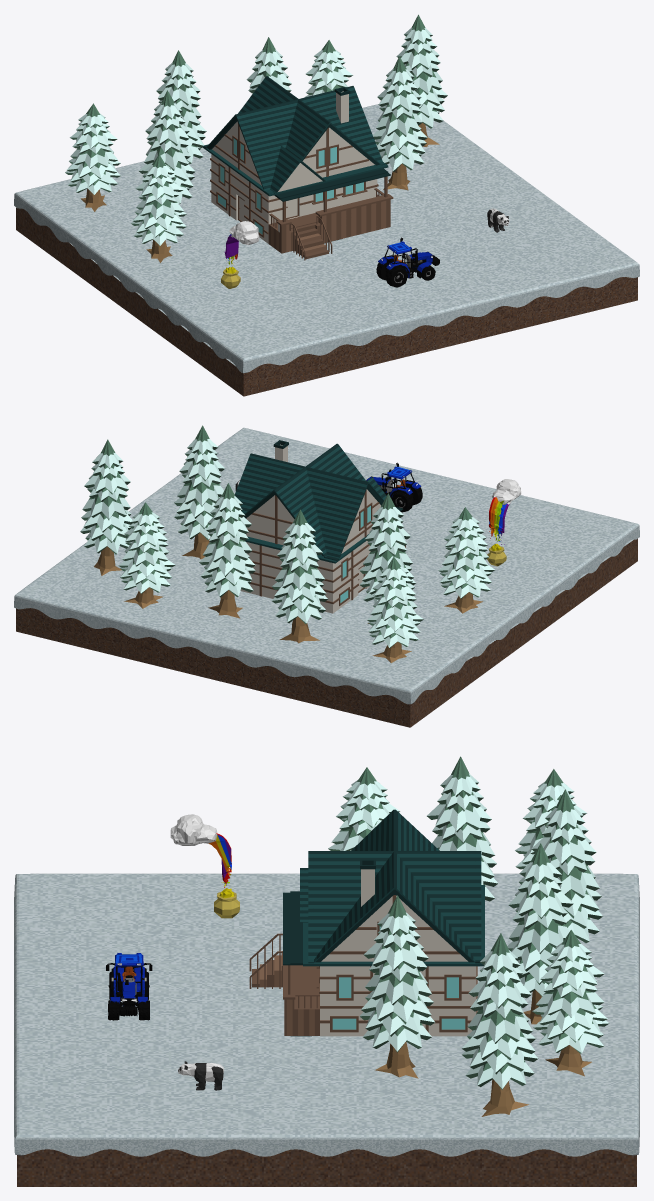
3 renders of one model, top to bottom at view 1: azimuth 30°, elevation 25°; view 2: azimuth 150°, elevation 25°; view 3: azimuth 270°, elevation 25°, orthographic. The views are drawn at different scales.
Parts seen in each view (by area): view 1: Cube.003, Cube.793, VEHICLES_TRACTOR, OBJRANDOM_RAINBOW; view 2: Cube.003, Cube.793, OBJRANDOM_RAINBOW, VEHICLES_TRACTOR; view 3: Cube.003, Cube.793, VEHICLES_TRACTOR, OBJRANDOM_RAINBOW, ANIMAL_PANDA.
Boxes of the visible parts, bbox=[...] form: Cube.003: bbox=[14, 14, 639, 396]; Cube.793: bbox=[202, 76, 393, 260]; VEHICLES_TRACTOR: bbox=[376, 237, 439, 287]; OBJRANDOM_RAINBOW: bbox=[221, 221, 259, 288]; Cube.003: bbox=[14, 425, 639, 727]; Cube.793: bbox=[234, 440, 405, 613]; OBJRANDOM_RAINBOW: bbox=[487, 479, 521, 566]; VEHICLES_TRACTOR: bbox=[366, 462, 422, 512]; Cube.003: bbox=[14, 756, 639, 1186]; Cube.793: bbox=[249, 809, 484, 1036]; VEHICLES_TRACTOR: bbox=[106, 953, 152, 1020]; OBJRANDOM_RAINBOW: bbox=[170, 814, 239, 918]; ANIMAL_PANDA: bbox=[178, 1061, 223, 1090].
Size of the model in its own units: 4040 by 1665 by 4040.
Materials: 27 (4 with a texture image).
